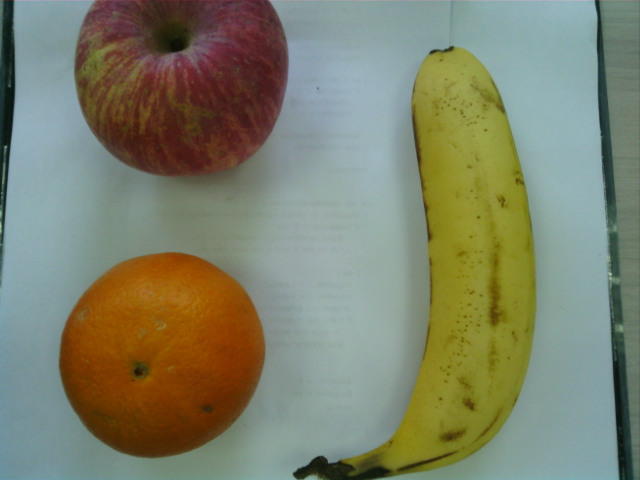normal_apple: (73, 1, 290, 179)
normal_banana: (369, 47, 541, 480)
normal_orange: (58, 252, 266, 461)
